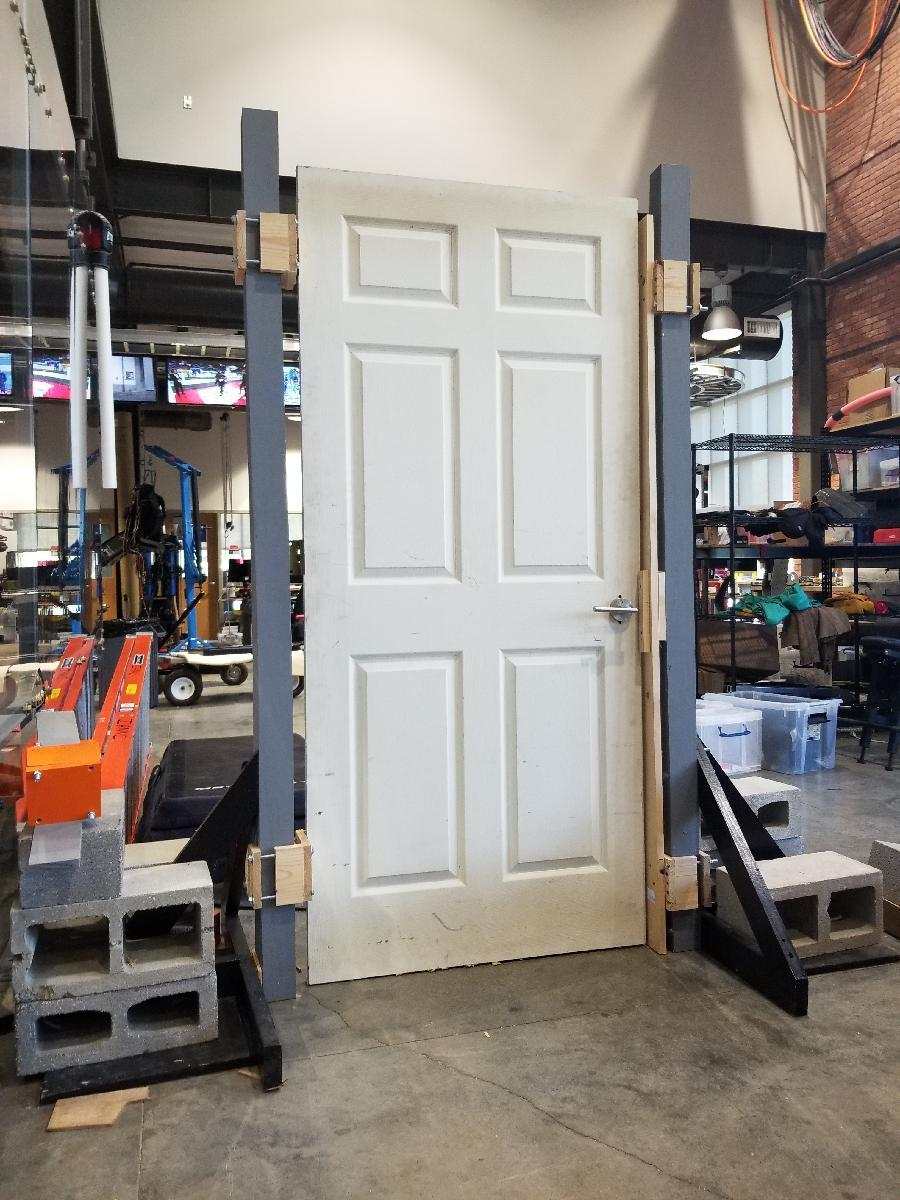door: (299, 168, 646, 977)
handle: (591, 595, 641, 625)
